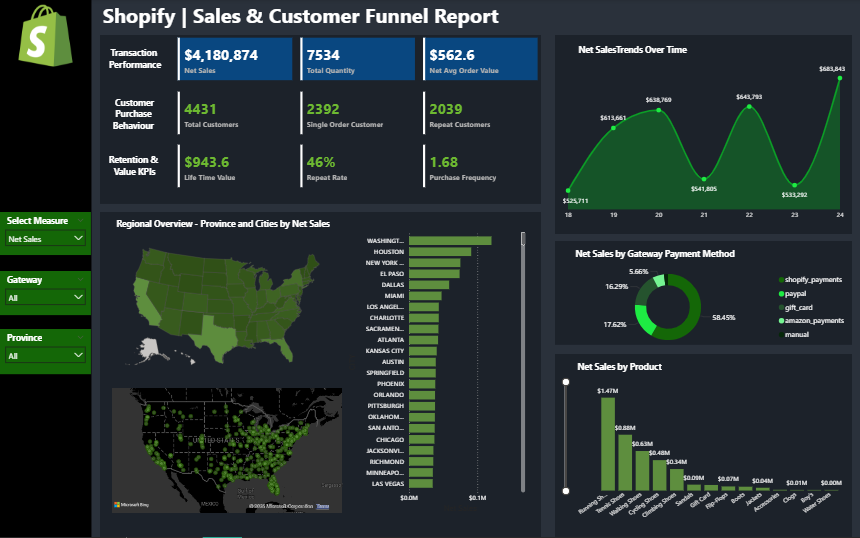

The dashboard page shown, as its layout file describes it:
{"tool":"powerbi","page":{"name":"Page 1","canvas":[1600,1000],"ordinal":0},"visuals":[{"type":"shape","box":[0,0,170,1000.6],"z":0},{"type":"textbox","box":[185.9,0,881,66.9],"z":1000},{"type":"shape","box":[185.9,66.9,819.7,314.1],"z":2000},{"type":"cardVisual","fields":{"Data":["shopify_sales.Net Sales","shopify_sales.Total Quantity","shopify_sales.Net Avg Order Value"]},"box":[325.3,66.9,680.3,89.2],"z":3000},{"type":"card","fields":{"Values":["shopify_sales.Transaction Perf"]},"box":[169.1,68.8,163.6,83.6],"z":4000},{"type":"cardVisual","fields":{"Data":["shopify_sales.Total Customers","shopify_sales.Single Order Customer","shopify_sales.Repeat Customers"]},"box":[325.3,166.4,680.3,89.2],"z":5000},{"type":"card","fields":{"Values":["shopify_sales.Customer Purchase Behaviour"]},"box":[180.3,169.1,139.4,83.6],"z":6000},{"type":"cardVisual","fields":{"Data":["shopify_sales.Life Time Value","shopify_sales.Repeat Rate","shopify_sales.Purchase Frequency"]},"box":[325.3,265.8,680.3,89.2],"z":7000},{"type":"card","fields":{"Values":["shopify_sales.Retention & Value KPIs"]},"box":[180.3,267.7,139.4,83.6],"z":8000},{"type":"shape","box":[185.9,395.9,819.7,604.1],"z":9000},{"type":"shapeMap","fields":{"Value":["shopify_sales.Net Sales"],"Category":["shopify_sales.Billing Address Province"]},"box":[185.9,446.1,455.4,250.9],"z":10000},{"type":"slicer","fields":{"Values":["Select Measure.Select Measure"]},"box":[0,395.9,169.1,79.9],"z":11000},{"type":"map","fields":{"Category":["shopify_sales.Corrected Location"]},"box":[202.6,717.5,438.7,241.6],"z":12000},{"type":"barChart","fields":{"Y":["shopify_sales.Net Sales"],"Category":["shopify_sales.CITY"]},"box":[641.3,420.1,340.1,539],"z":13000},{"type":"card","fields":{"Values":["shopify_sales.Map Title"]},"box":[169.1,390.3,490.7,59.5],"z":14000},{"type":"shape","box":[1031.6,66.9,552,369.9],"z":15000},{"type":"areaChart","fields":{"Y":["shopify_sales.Net Sales"],"Category":["shopify_sales.Invoice Date.Variation.Date Hierarchy.Day"]},"box":[1040.9,111.5,535.3,308.6],"z":16000},{"type":"card","fields":{"Values":["shopify_sales.Trend Title"]},"box":[981.4,66.9,388.5,59.5],"z":16001},{"type":"shape","box":[1031.6,449.8,552,193.3],"z":16002},{"type":"donutChart","fields":{"Category":["shopify_sales.Gateway"],"Y":["shopify_sales.Net Sales"]},"box":[1031.6,488.8,552,167.3],"z":16003},{"type":"card","fields":{"Values":["shopify_sales.Gateway Title"]},"box":[1040.9,446.1,353.2,59.5],"z":16004},{"type":"shape","box":[1031.6,659.9,552,340.1],"z":16005},{"type":"columnChart","fields":{"Category":["shopify_sales.Product Type"],"Y":["shopify_sales.Net Sales"]},"box":[1040.9,698.9,535.3,278.8],"z":16006},{"type":"card","fields":{"Values":["shopify_sales.Product Title"]},"box":[1031.6,656.1,239.8,59.5],"z":16007},{"type":"slicer","fields":{"Values":["shopify_sales.Gateway"]},"box":[0,505.6,169.1,81.8],"z":16008},{"type":"image","box":[22.3,5.6,124.5,124.5],"z":16009},{"type":"slicer","fields":{"Values":["shopify_sales.Billing Address Province"]},"box":[0,613.4,169.1,83.6],"z":16010}]}

Visuals, with their boxes in screenshot pixels (x1, y1, x2, y2), scaled from the page's 1600x1000 canvas onto the 860x538 screenshot:
shape: [x1=0, y1=0, x2=91, y2=537]
textbox: [x1=100, y1=0, x2=573, y2=36]
shape: [x1=100, y1=36, x2=541, y2=205]
cardVisual - shopify_sales.Net Sales x shopify_sales.Total Quantity: [x1=175, y1=36, x2=541, y2=84]
card - shopify_sales.Transaction Perf: [x1=91, y1=37, x2=179, y2=82]
cardVisual - shopify_sales.Total Customers x shopify_sales.Single Order Customer: [x1=175, y1=90, x2=541, y2=138]
card - shopify_sales.Customer Purchase Behaviour: [x1=97, y1=91, x2=172, y2=136]
cardVisual - shopify_sales.Life Time Value x shopify_sales.Repeat Rate: [x1=175, y1=143, x2=541, y2=191]
card - shopify_sales.Retention & Value KPIs: [x1=97, y1=144, x2=172, y2=189]
shape: [x1=100, y1=213, x2=541, y2=537]
shapeMap - shopify_sales.Net Sales x shopify_sales.Billing Address Province: [x1=100, y1=240, x2=345, y2=375]
slicer - Select Measure.Select Measure: [x1=0, y1=213, x2=91, y2=256]
map - shopify_sales.Corrected Location: [x1=109, y1=386, x2=345, y2=516]
barChart - shopify_sales.Net Sales x shopify_sales.CITY: [x1=345, y1=226, x2=528, y2=516]
card - shopify_sales.Map Title: [x1=91, y1=210, x2=355, y2=242]
shape: [x1=554, y1=36, x2=851, y2=235]
areaChart - shopify_sales.Net Sales x shopify_sales.Invoice Date.Variation.Date Hierarchy.Day: [x1=559, y1=60, x2=847, y2=226]
card - shopify_sales.Trend Title: [x1=528, y1=36, x2=736, y2=68]
shape: [x1=554, y1=242, x2=851, y2=346]
donutChart - shopify_sales.Gateway x shopify_sales.Net Sales: [x1=554, y1=263, x2=851, y2=353]
card - shopify_sales.Gateway Title: [x1=559, y1=240, x2=749, y2=272]
shape: [x1=554, y1=355, x2=851, y2=537]
columnChart - shopify_sales.Product Type x shopify_sales.Net Sales: [x1=559, y1=376, x2=847, y2=526]
card - shopify_sales.Product Title: [x1=554, y1=353, x2=683, y2=385]
slicer - shopify_sales.Gateway: [x1=0, y1=272, x2=91, y2=316]
image: [x1=12, y1=3, x2=79, y2=70]
slicer - shopify_sales.Billing Address Province: [x1=0, y1=330, x2=91, y2=375]
